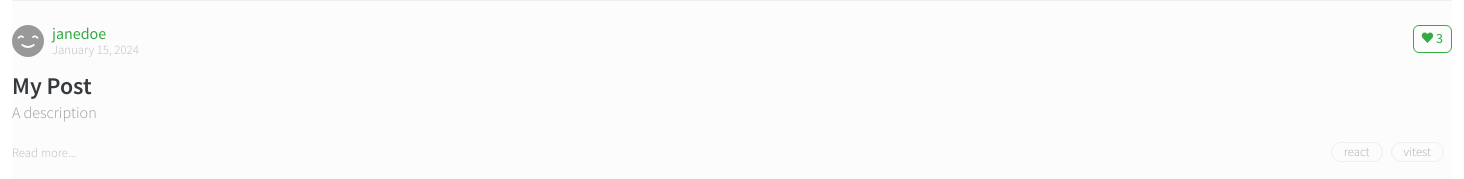
it: ArticlePreview › increments favorites count optimistically on favorite click
The image size is (1464, 179).
Click the button: (1432, 39) [1413,25,1452,53]
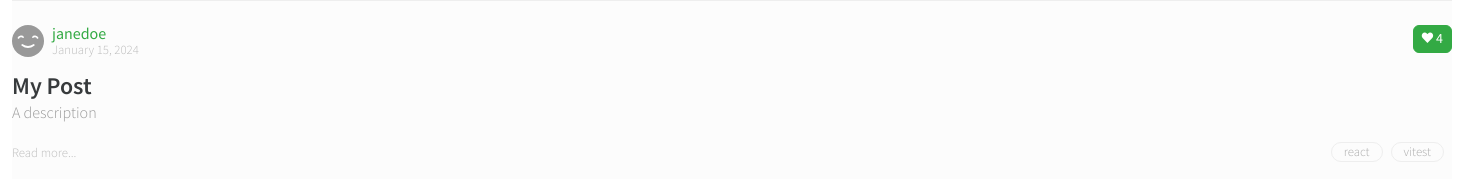
Expected: the button reads "4", [1413,25,1452,53]
